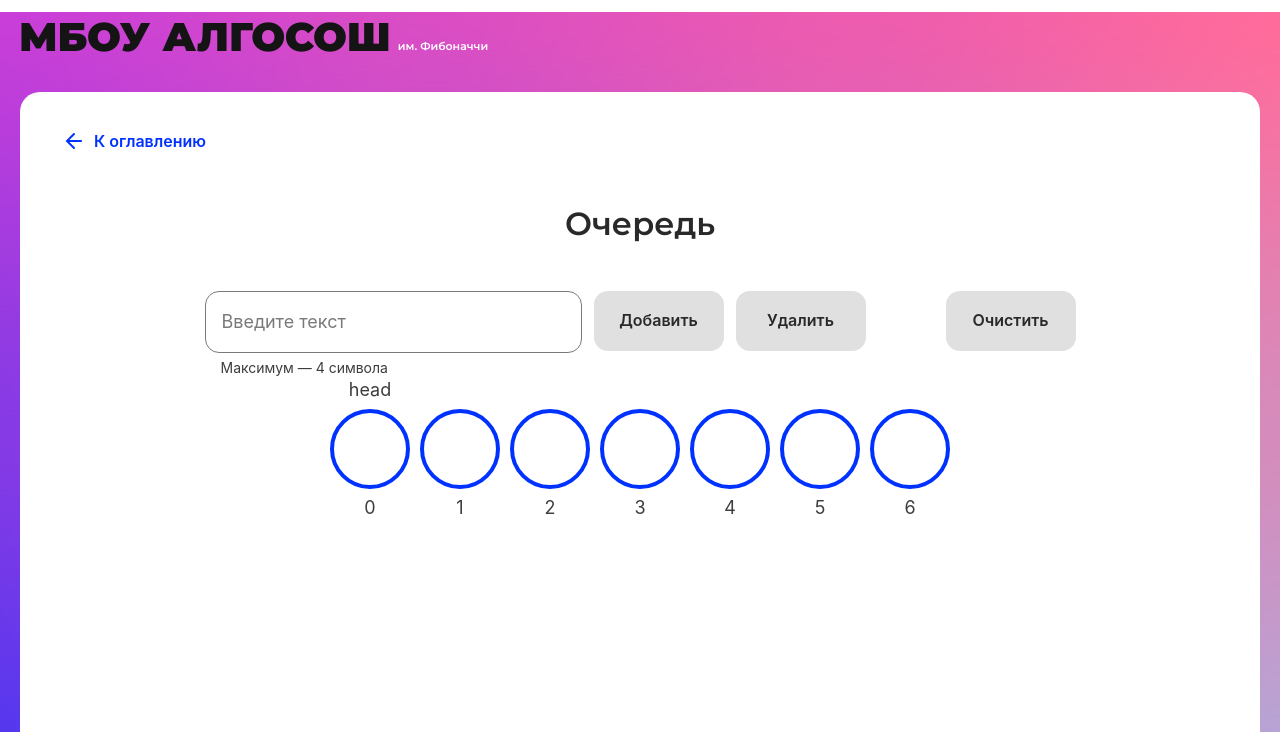
it: Тесты для страницы очередь › должен добавить элементы 'a, ab, abc' в очередь и отрисовать курсоры head и tail корректно
This screenshot has width=1280, height=732.
Expected: the heading "Очередь" is shown, [565, 204, 715, 243]
Expected: the text "head" is shown, [349, 379, 391, 401]
Type "a" into the field with placeholder "Введите текст".
click(394, 322); type("a")  # box [205, 291, 582, 353]
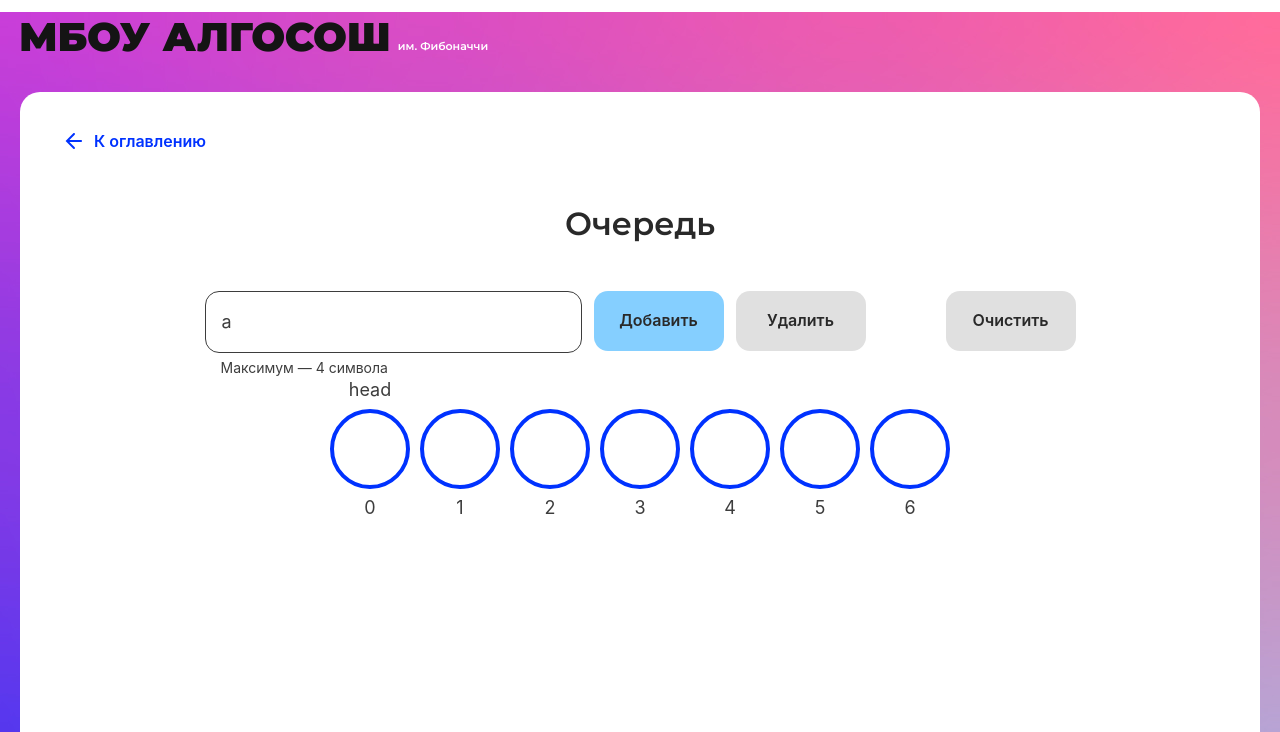
Click the button with test id "btnAddItem".
click(659, 321)  # box [594, 291, 724, 351]
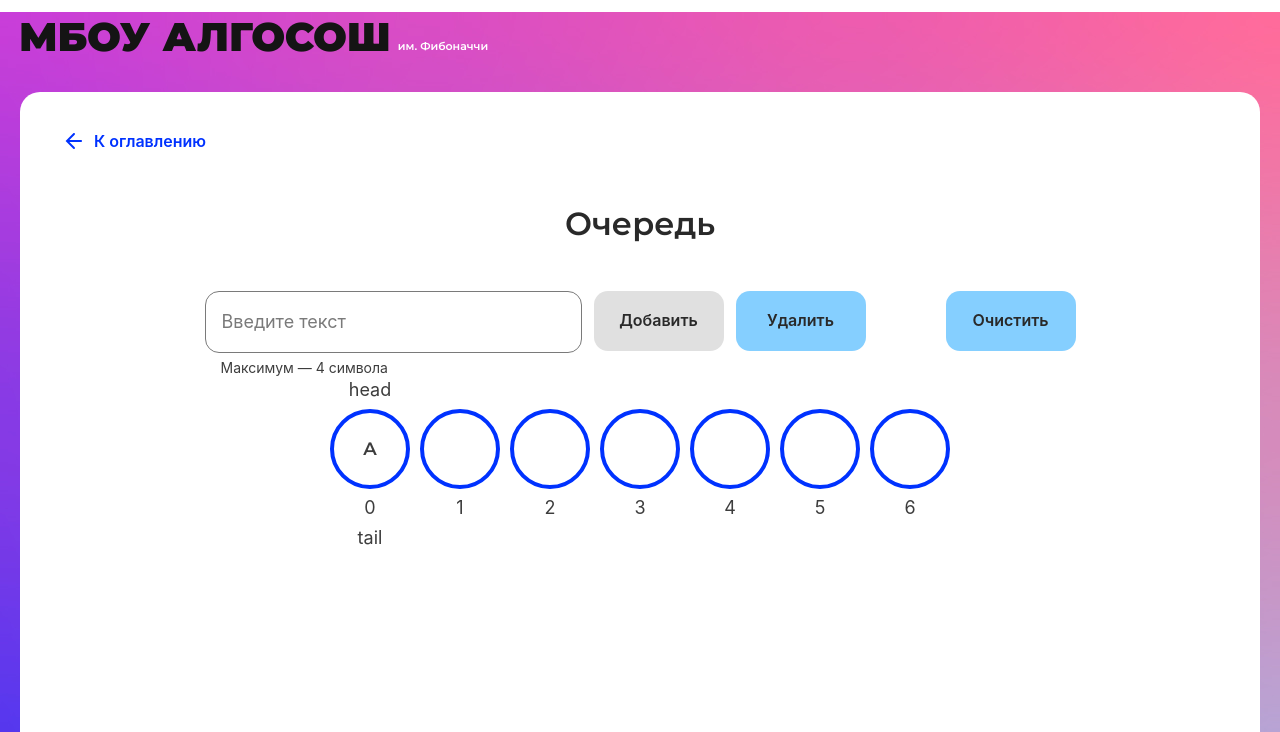
Expected: the text "head" is shown, [349, 379, 391, 401]
Expected: the text "tail" is shown, [358, 527, 382, 549]
Expected: the text "a" is shown, [363, 438, 377, 460]
Type "ab" into the field with placeholder "Введите текст".
click(394, 322); type("ab")  # box [205, 291, 582, 353]
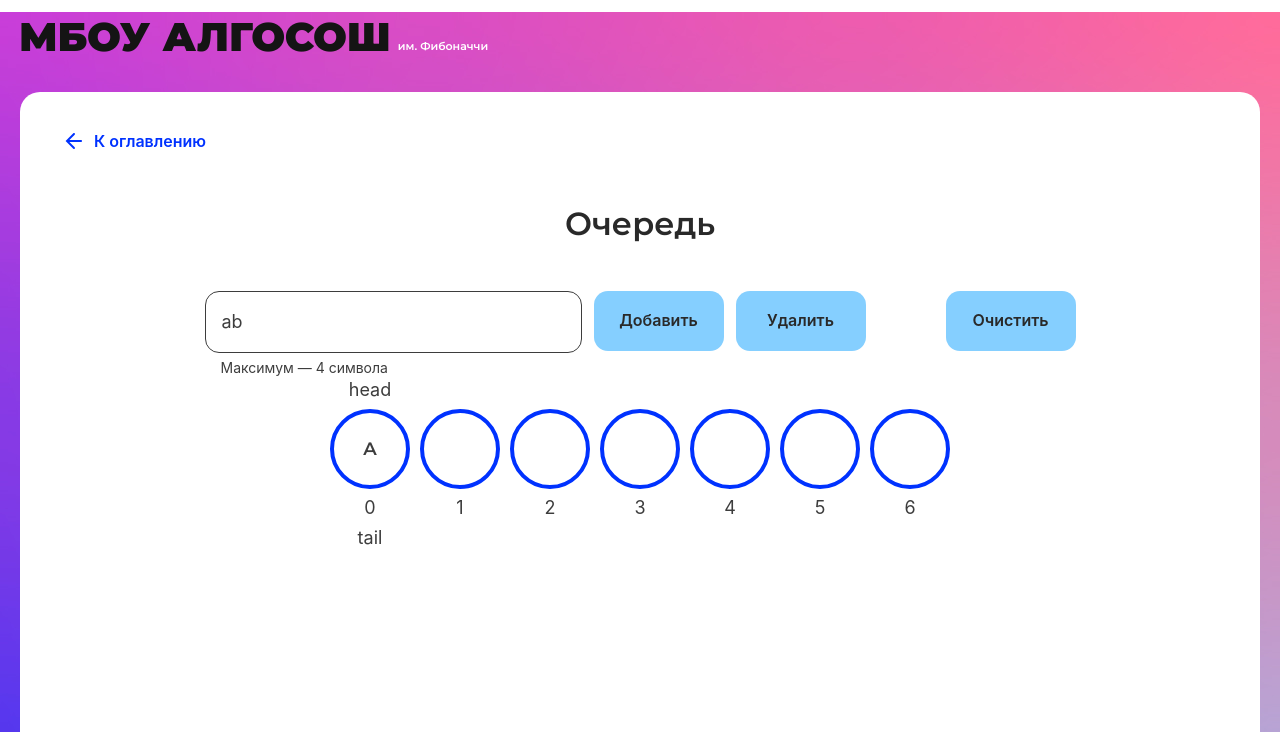
Click the button with test id "btnAddItem".
click(659, 321)  # box [594, 291, 724, 351]
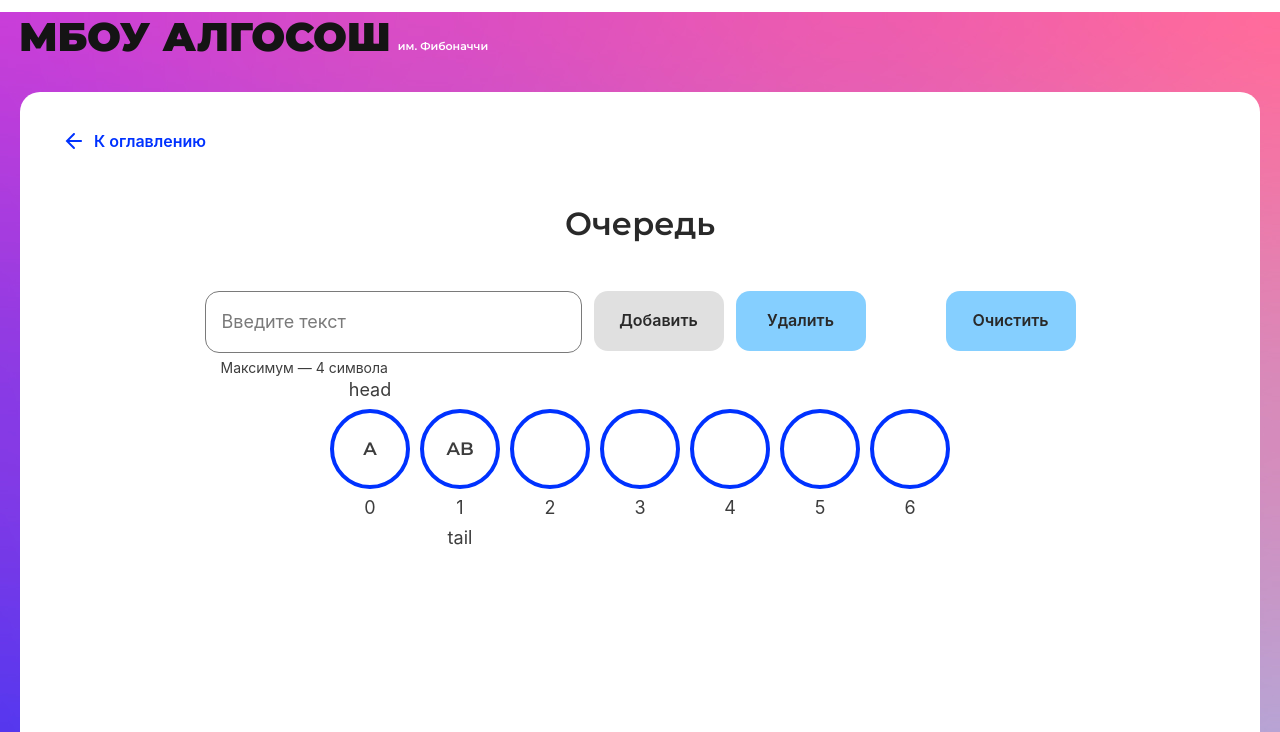
Expected: the text "tail" is shown, [448, 527, 472, 549]
Expected: the text "tail" is gone
Expected: the text "ab" is shown, [446, 438, 474, 460]
Type "abc" into the field with placeholder "Введите текст".
click(394, 322); type("abc")  # box [205, 291, 582, 353]
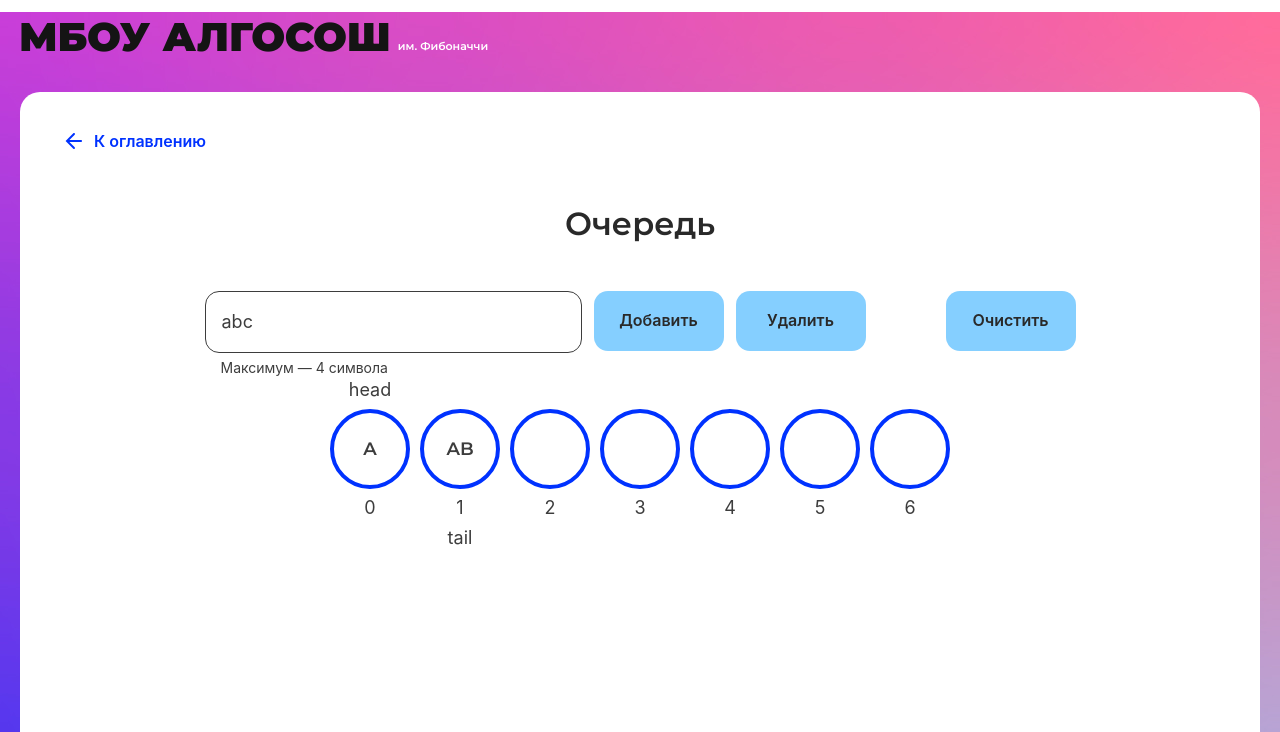
Click the button with test id "btnAddItem".
click(659, 321)  # box [594, 291, 724, 351]
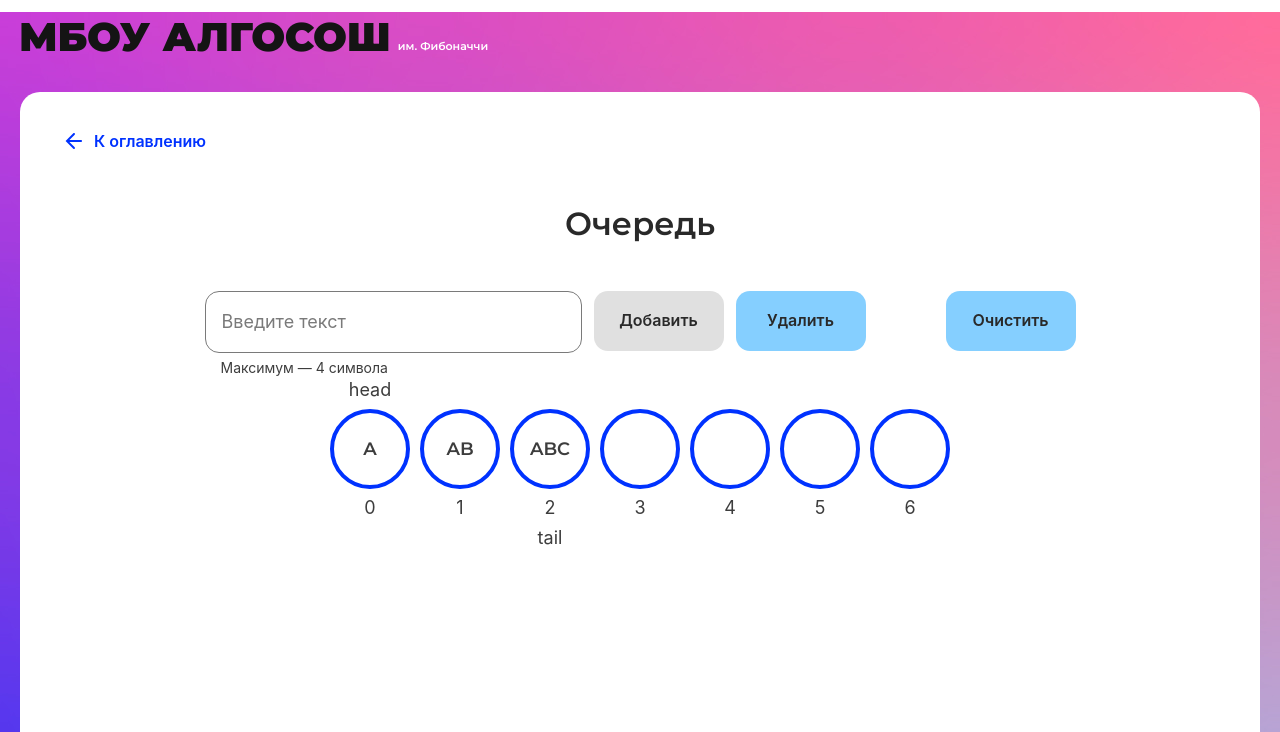
Expected: the text "tail" is shown, [538, 527, 562, 549]
Expected: the text "tail" is gone
Expected: the text "abc" is shown, [530, 438, 570, 460]
